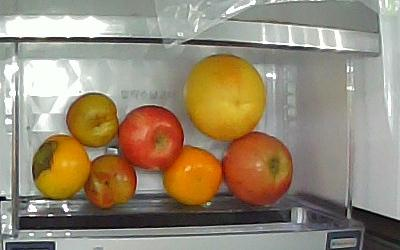apple: (223, 132, 294, 209), (116, 105, 184, 172)
grapefruit: (184, 55, 268, 141)
persimmon: (31, 133, 91, 202), (164, 144, 222, 206)
prune: (84, 154, 139, 210), (66, 92, 118, 148)
